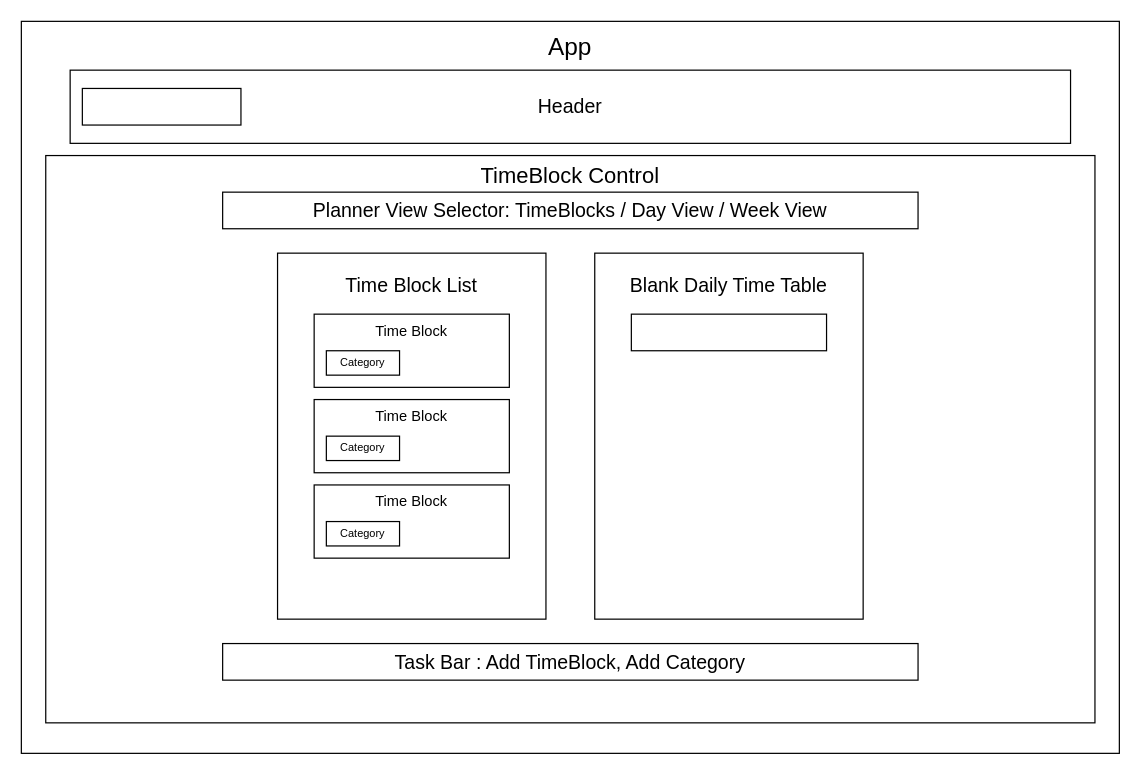
This 1141x775 diagram has some shape labels left out. The shapes that lost their labels are listed below. From the top down, each one's centre as x and y in pixels, then its label:
the point at 161,106: Sign In / Sign Out
the point at 728,332: Selected Date
